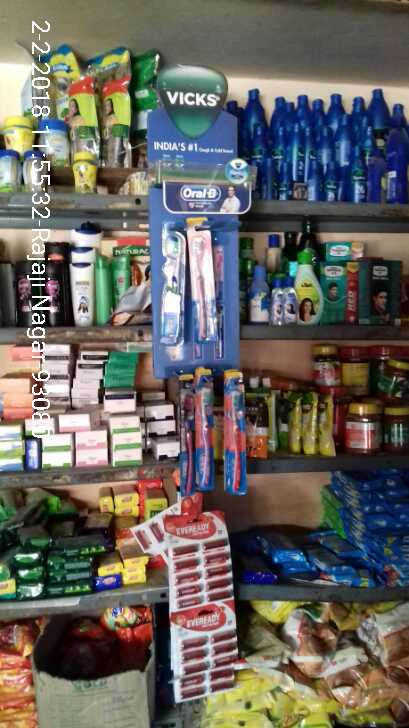oralb: (182, 217, 217, 339), (159, 220, 180, 345)
